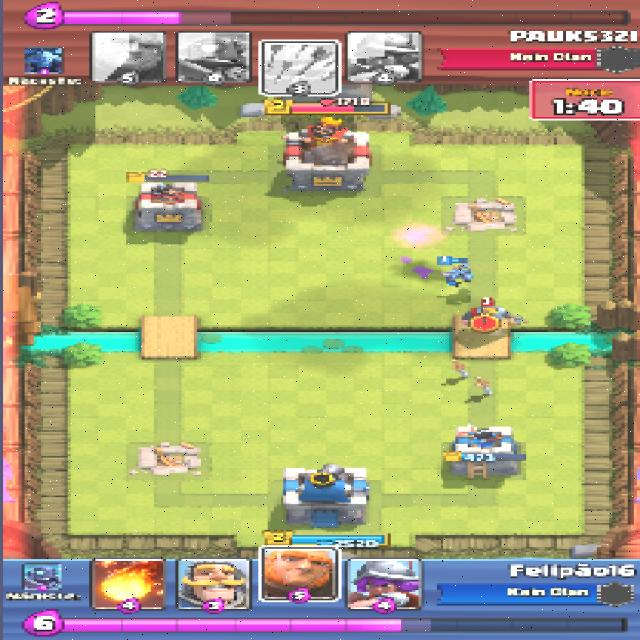Enemy-Knight: (461, 305, 524, 329)
Player-Minion: (439, 265, 472, 286)
